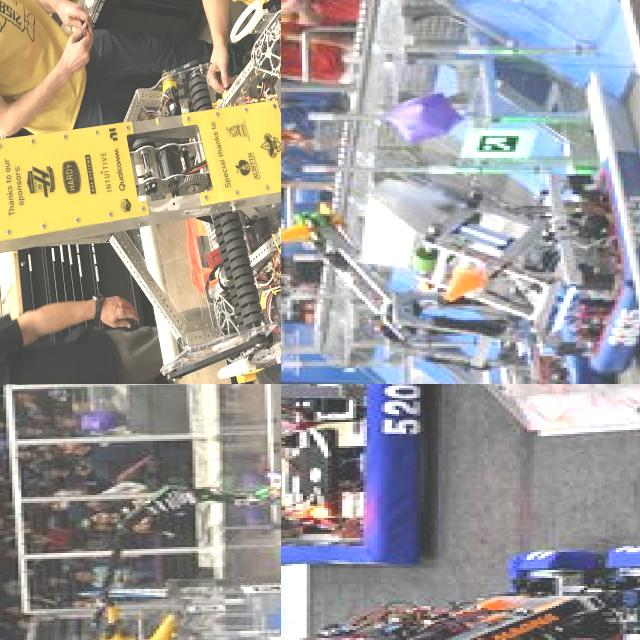FRC-Robots: (0, 0, 281, 384), (350, 130, 640, 377), (281, 204, 606, 384), (281, 485, 640, 640), (60, 437, 281, 640), (281, 384, 466, 589)
